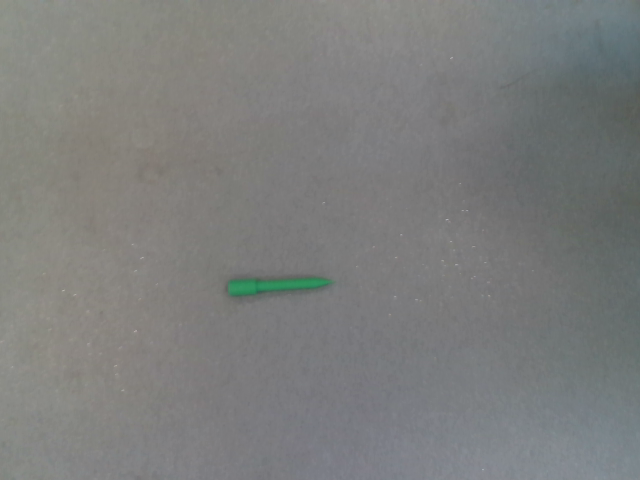Probe: (222, 270, 339, 301)
